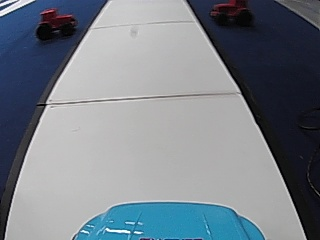tractor: (34, 6, 78, 40), (209, 0, 249, 27)
